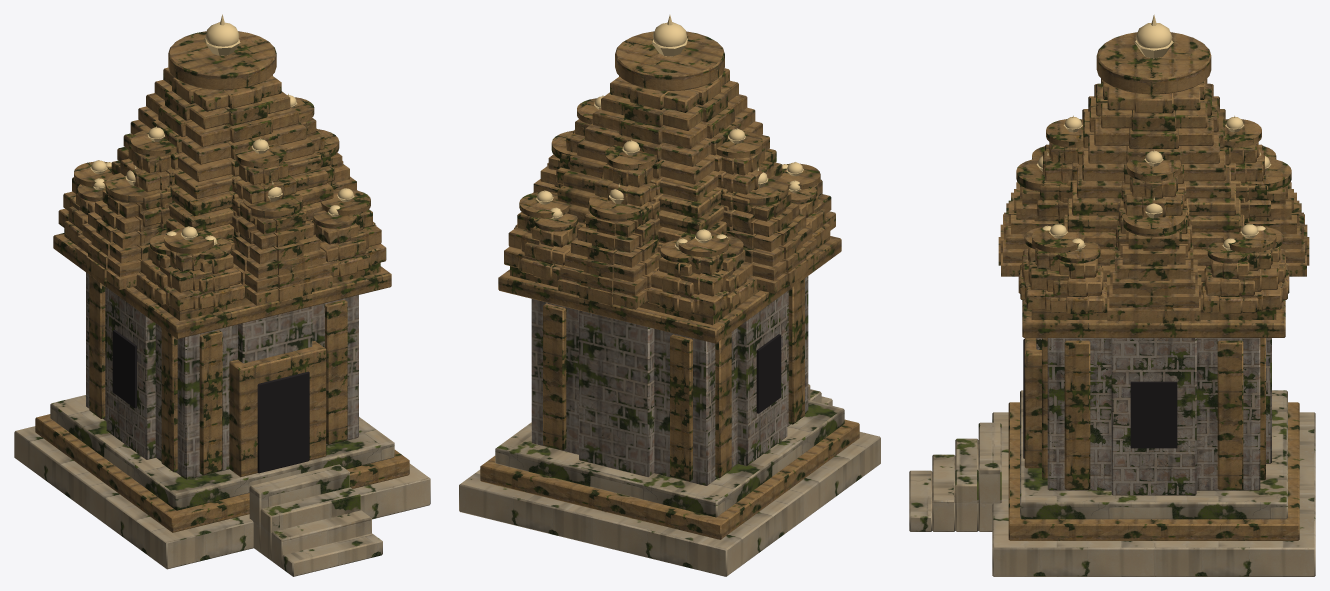
File: Shikhara_Small.fbx
The picture shows the model from 3 angles, left to right: view 1: azimuth 30°, elevation 25°; view 2: azimuth 150°, elevation 25°; view 3: azimuth 270°, elevation 25°; orthographic projection. The views are drawn at different scales.
Visible parts, largest first — view 1: Shikhara_Small_LOD0; view 2: Shikhara_Small_LOD0; view 3: Shikhara_Small_LOD0.
Part boxes in pixels (x1,y1,x2,y2): Shikhara_Small_LOD0: [14, 14, 430, 576]; Shikhara_Small_LOD0: [459, 15, 880, 576]; Shikhara_Small_LOD0: [909, 14, 1315, 576].
Size of what is drawn, in the model's own units: 7 by 11.83 by 8.8.
